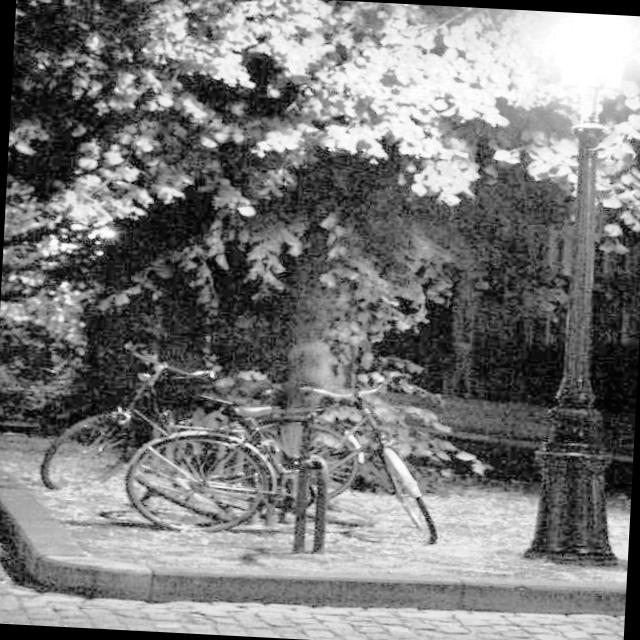Bicycle: (138, 375, 458, 558), (34, 349, 232, 518)
